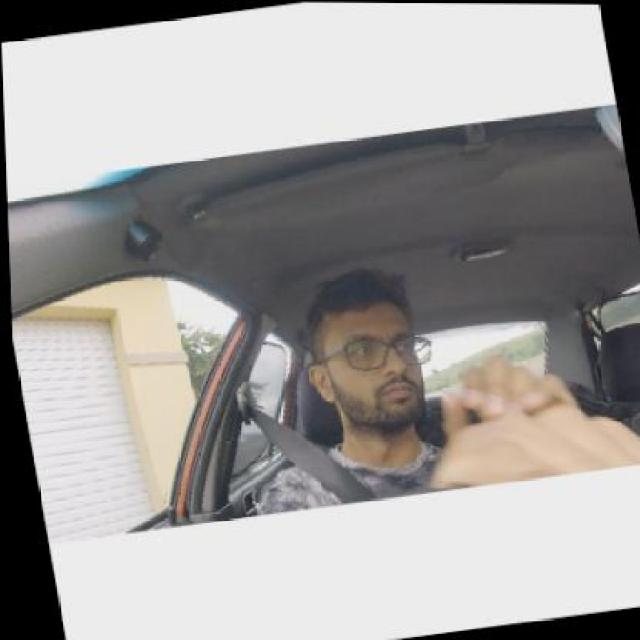person: (306, 294, 428, 419)
